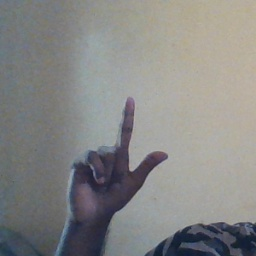L: (66, 97, 170, 224)
